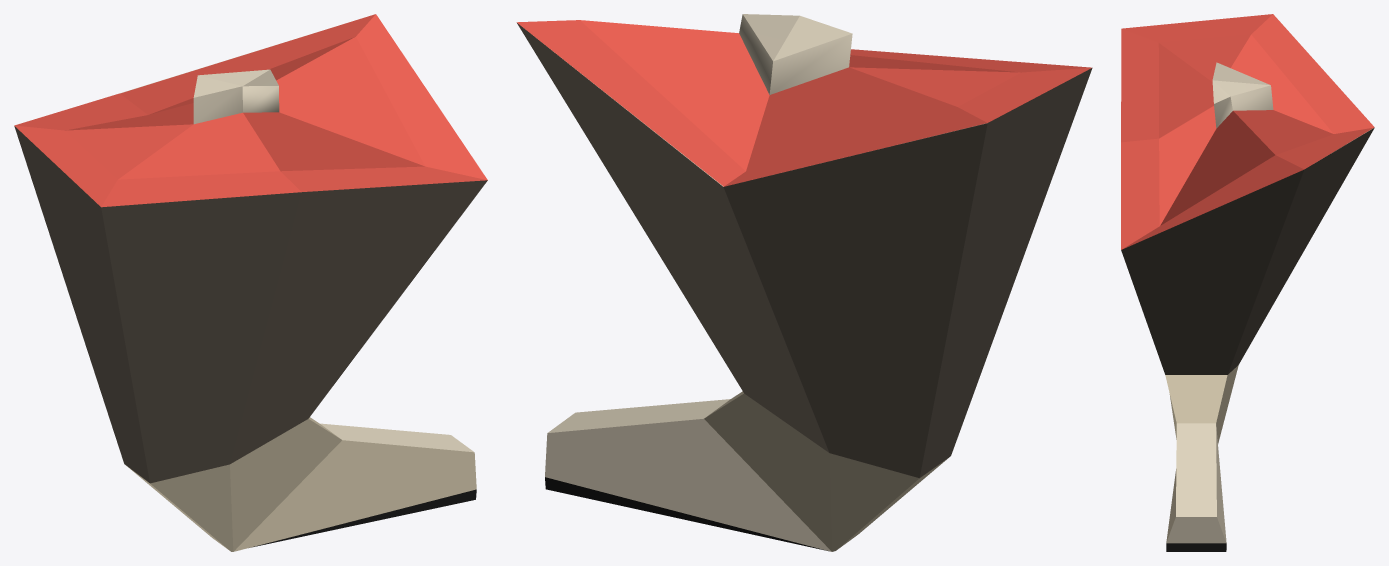
The model's file is racoon-leg-bl.glb.
3 views of the same model, side by side, from view 1: azimuth 30°, elevation 25°; view 2: azimuth 150°, elevation 25°; view 3: azimuth 270°, elevation 25° (orthographic). The views are drawn at different scales.
Parts seen in each view (by area): view 1: BL; view 2: BL; view 3: BL.
Part boxes in pixels (<box>): BL: <box>14,14,487,551</box>; BL: <box>516,14,1092,551</box>; BL: <box>1121,14,1374,551</box>.
Bounding box in the file's own units: 0.8331 × 0.8733 × 0.5226.
